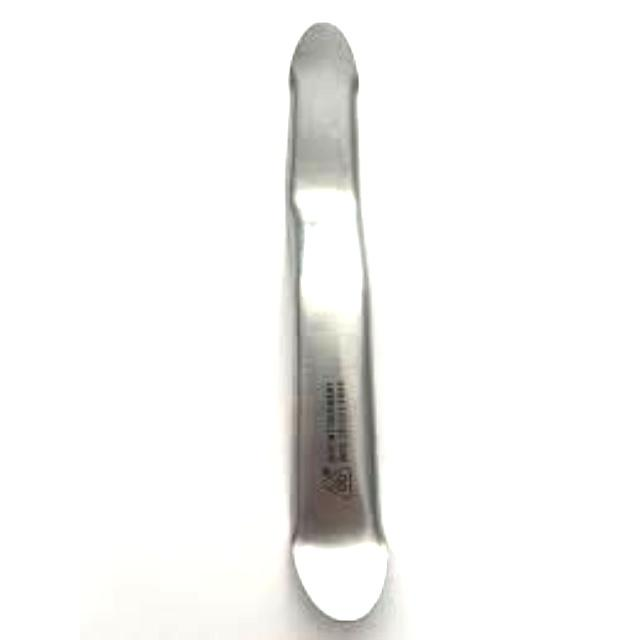separador: (282, 23, 391, 625)
